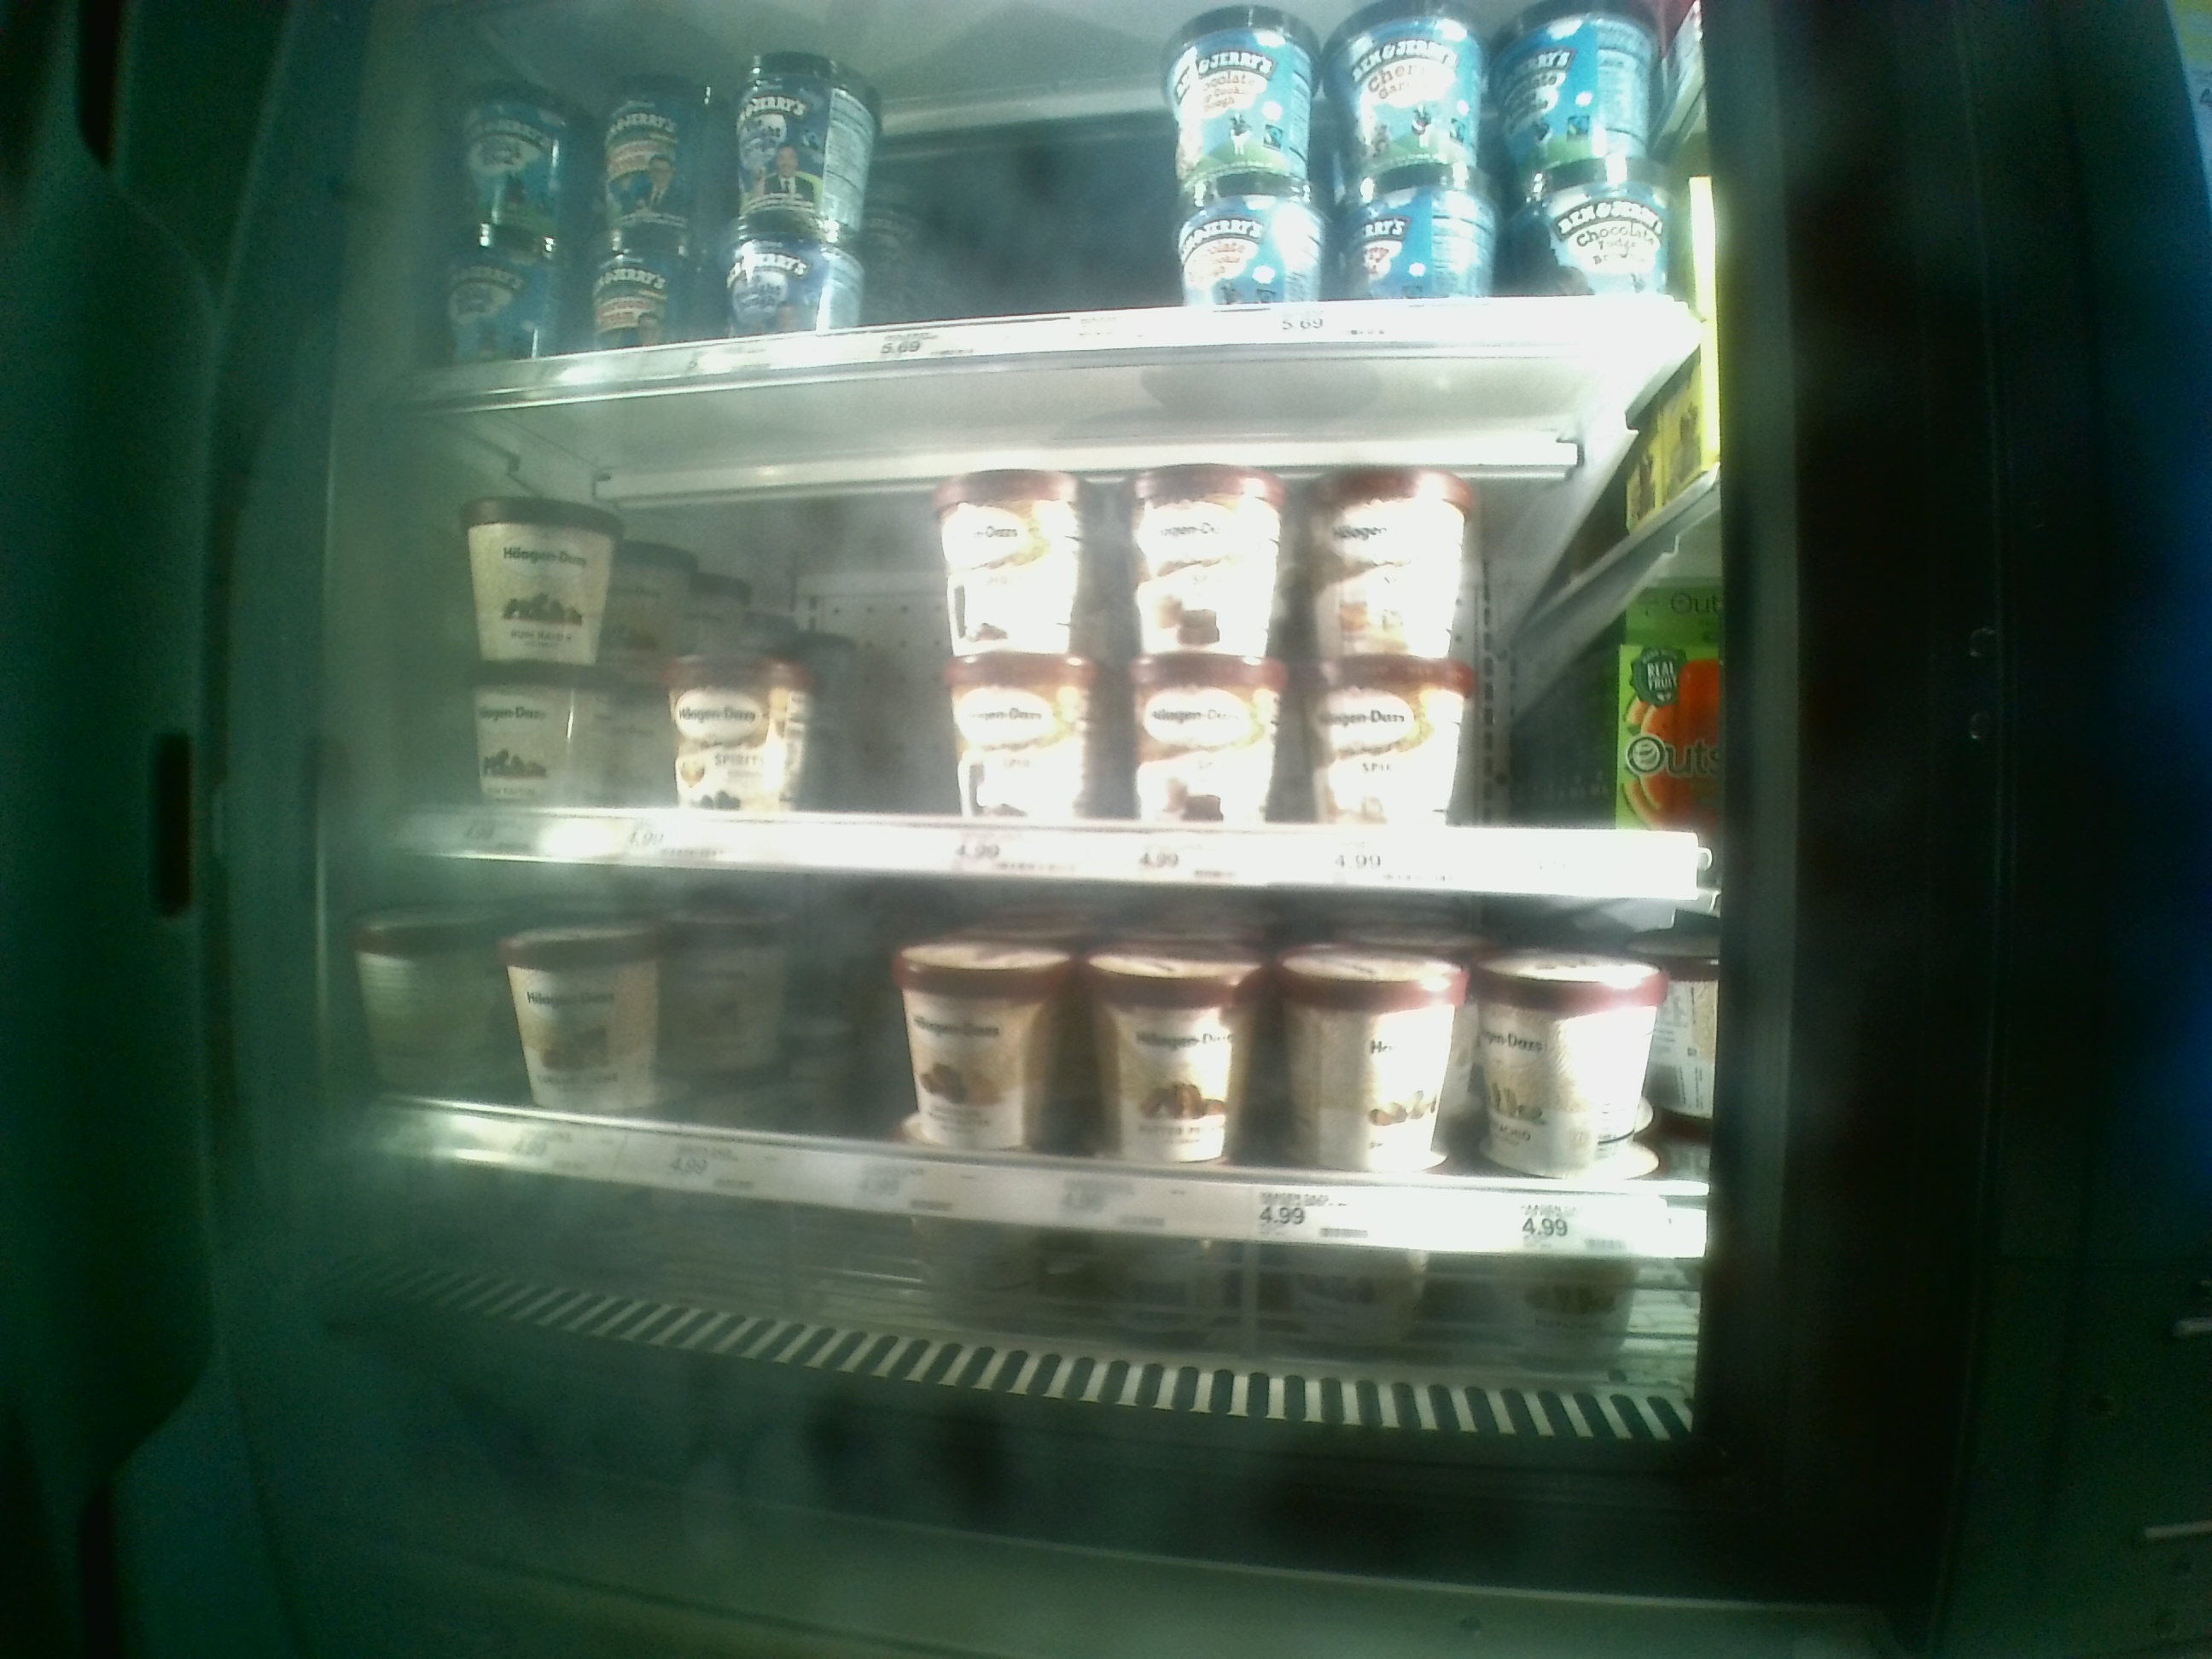shelf: (395, 350, 1716, 904), (381, 852, 1721, 1394)
